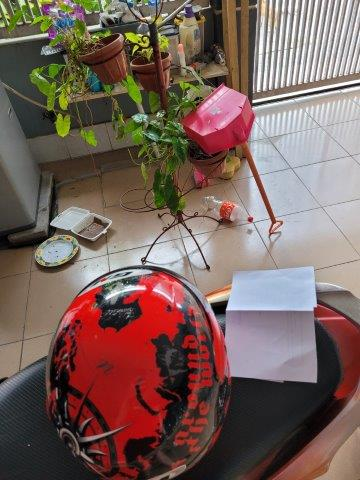botolplastik: (199, 197, 256, 225)
kertas: (223, 267, 320, 385)
